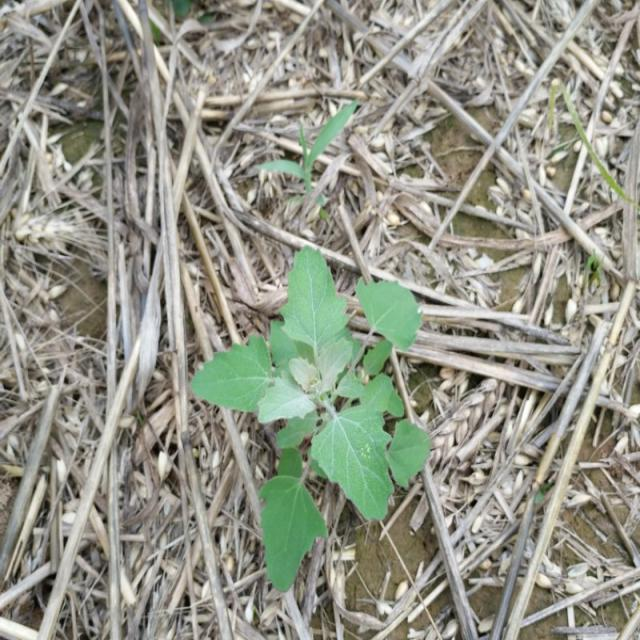goosefoots: (222, 250, 444, 572)
